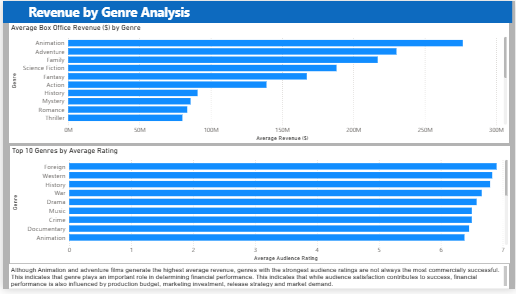

The dashboard page shown, as its layout file describes it:
{"tool":"powerbi","page":{"name":"Revenue by Genre Analysis","canvas":[1280,720],"ordinal":3},"visuals":[{"type":"clusteredBarChart","title":"Average Box Office Revenue ($) by Genre ","fields":{"Category":["tmdb_processed.genres.1"],"Y":["tmdb_processed.Average Revenue"]},"box":[15,55.8,1250,300],"z":0},{"type":"textbox","box":[15,658,1250,62],"z":1000},{"type":"textbox","box":[0,0,1272.5,55],"z":2000},{"type":"clusteredBarChart","title":"Top 10 Genres by Average Rating","fields":{"Category":["tmdb_processed.genres.1"],"Y":["tmdb_processed.Average Rating"]},"box":[16.7,363.3,1250,293.3],"z":3000}]}

Visuals, with their boxes in screenshot pixels (x1, y1, x2, y2), scaled from the page's 1280x720 canvas onto the 516x294 screenshot:
"Average Box Office Revenue ($) by Genre " clusteredBarChart: <box>6,23,510,145</box>
textbox: <box>6,269,510,293</box>
textbox: <box>0,0,513,22</box>
"Top 10 Genres by Average Rating" clusteredBarChart: <box>7,148,511,268</box>
